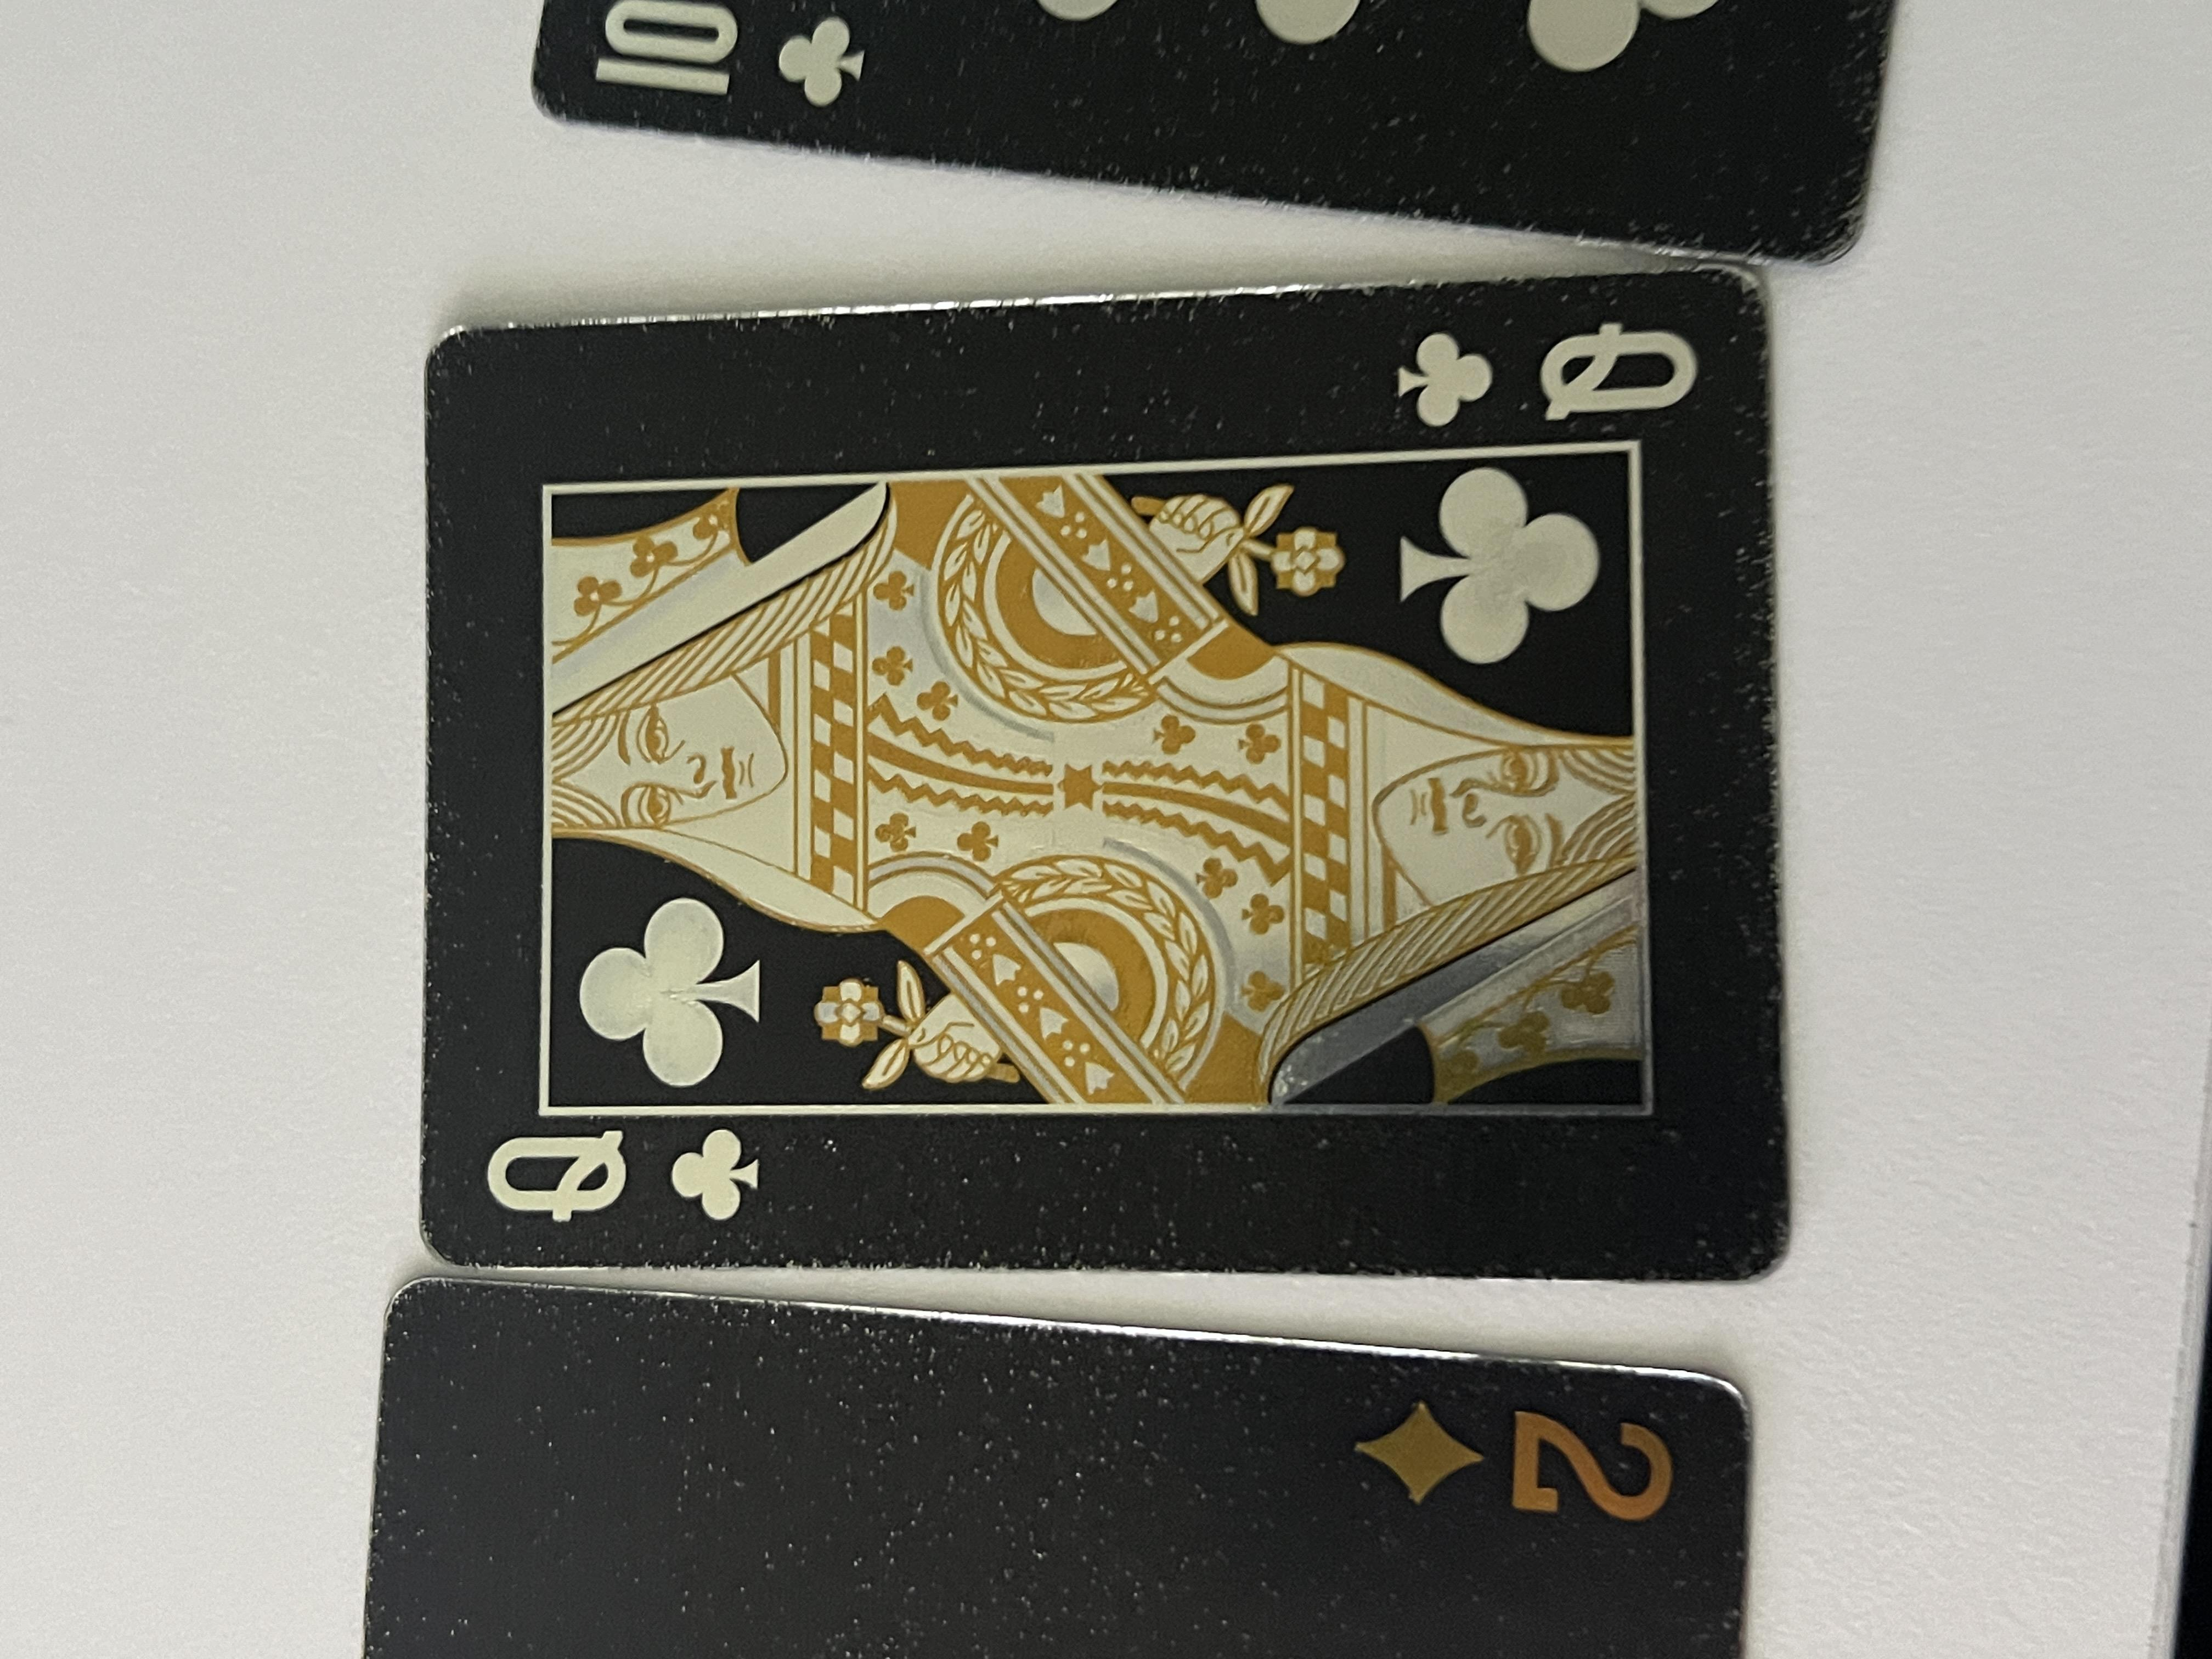10C: (2041, 429, 2212, 666)
2D: (179, 1016, 383, 1277)
QC: (1620, 1030, 1815, 1279), (563, 349, 738, 582)
